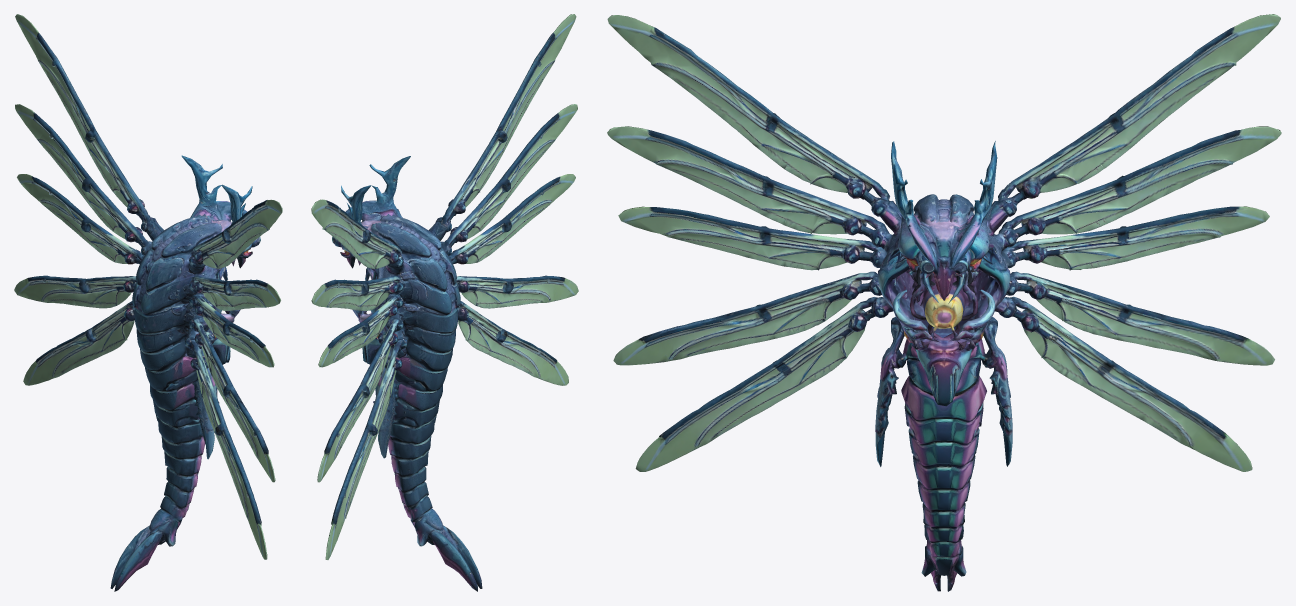
The model's file is Enemigo13.glb.
3 renders of one model, left to right at view 1: azimuth 30°, elevation 25°; view 2: azimuth 150°, elevation 25°; view 3: azimuth 270°, elevation 25°, orthographic. The views are drawn at different scales.
Parts seen in each view (by area): view 1: tripo_node_a76f9037-c980-4a3b-a1ac-1f5cce1b802a; view 2: tripo_node_a76f9037-c980-4a3b-a1ac-1f5cce1b802a; view 3: tripo_node_a76f9037-c980-4a3b-a1ac-1f5cce1b802a.
Part boxes in pixels (bbox=[...]): tripo_node_a76f9037-c980-4a3b-a1ac-1f5cce1b802a: bbox=[14, 14, 282, 591]; tripo_node_a76f9037-c980-4a3b-a1ac-1f5cce1b802a: bbox=[311, 14, 578, 591]; tripo_node_a76f9037-c980-4a3b-a1ac-1f5cce1b802a: bbox=[607, 14, 1281, 591].
Size of the model in its own units: 0.3128 by 0.962 by 0.9806.
Materials: 1 (1 with a texture image).
